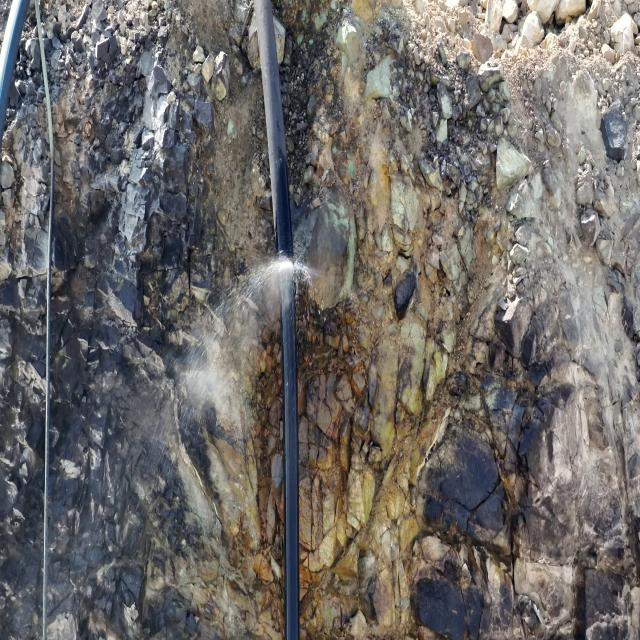leak: (142, 237, 345, 503)
